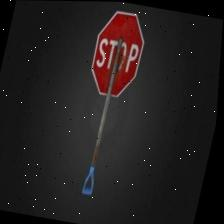Stop: (85, 6, 151, 98)
